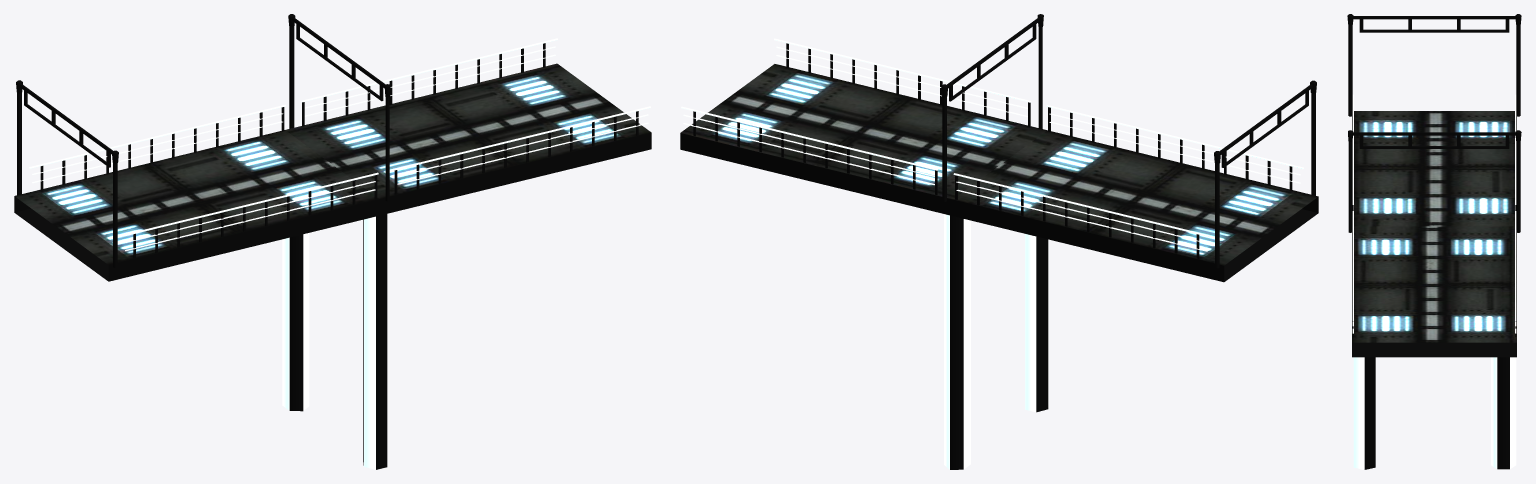
Rendered from FUT0410049.fbx.
3 views of the same model, side by side, from view 1: azimuth 30°, elevation 25°; view 2: azimuth 150°, elevation 25°; view 3: azimuth 270°, elevation 25° (orthographic). The views are drawn at different scales.
Parts seen in each view (by area): view 1: smFUT0410049; view 2: smFUT0410049; view 3: smFUT0410049.
Boxes of the visible parts, x1=… form: smFUT0410049: x1=14, y1=14, x2=651, y2=469; smFUT0410049: x1=680, y1=14, x2=1318, y2=469; smFUT0410049: x1=1347, y1=14, x2=1521, y2=469.
Size of the model in its own units: 2125 by 1435 by 674.
